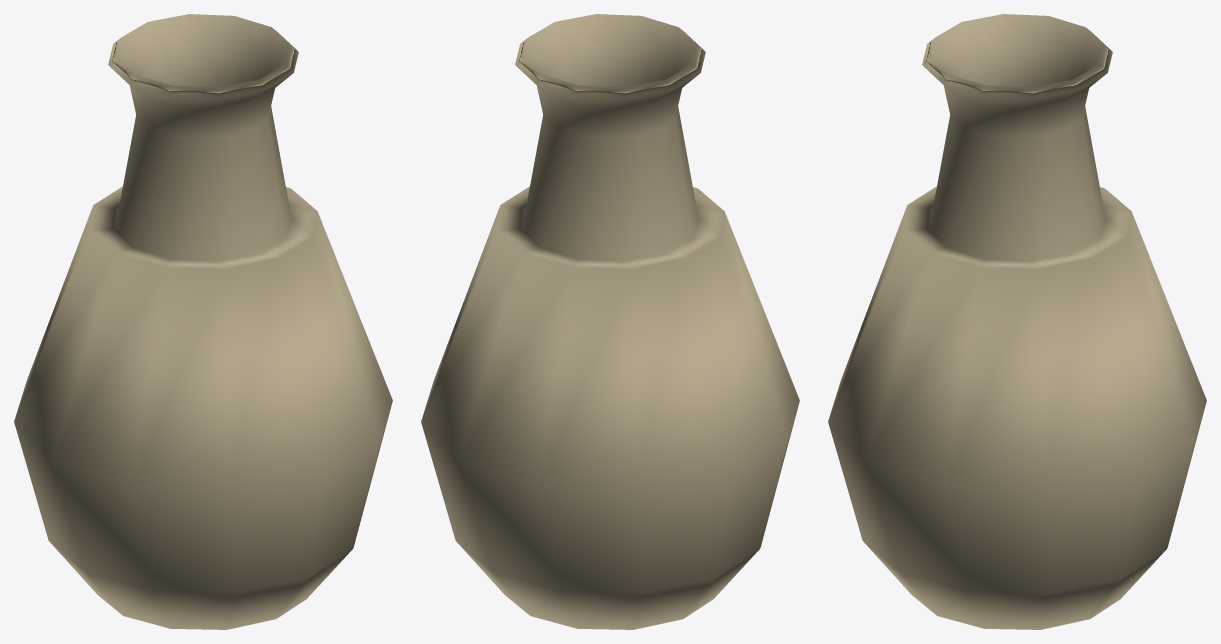
File: Vase8.fbx
3 views of the same model, side by side, from view 1: azimuth 30°, elevation 25°; view 2: azimuth 150°, elevation 25°; view 3: azimuth 270°, elevation 25° (orthographic).
Visible parts, largest first — view 1: vase.232_vase.1346; view 2: vase.232_vase.1346; view 3: vase.232_vase.1346.
Boxes of the visible parts, x1,y1,x2,y2 form: vase.232_vase.1346: (14,14,392,629); vase.232_vase.1346: (421,14,799,629); vase.232_vase.1346: (828,14,1206,629).
Size of the model in its own units: 2.69 by 4.2 by 2.69.
